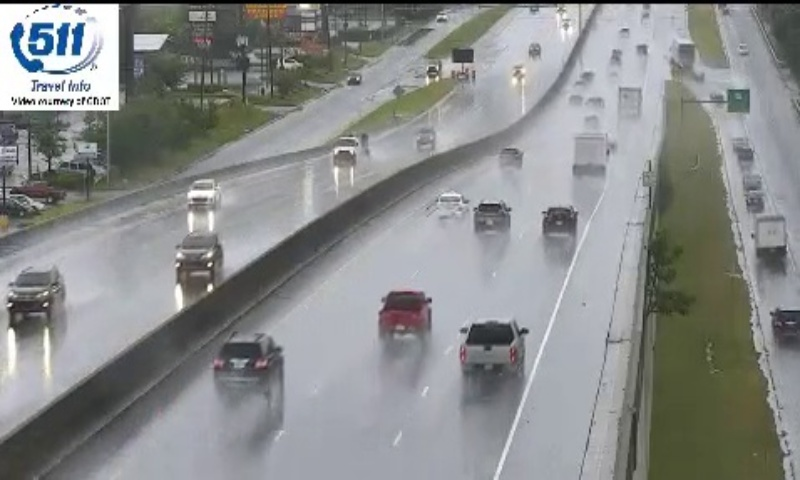car: (215, 331, 282, 390), (458, 320, 523, 375), (378, 291, 433, 335), (473, 201, 510, 232), (542, 206, 579, 235), (435, 192, 466, 219)
